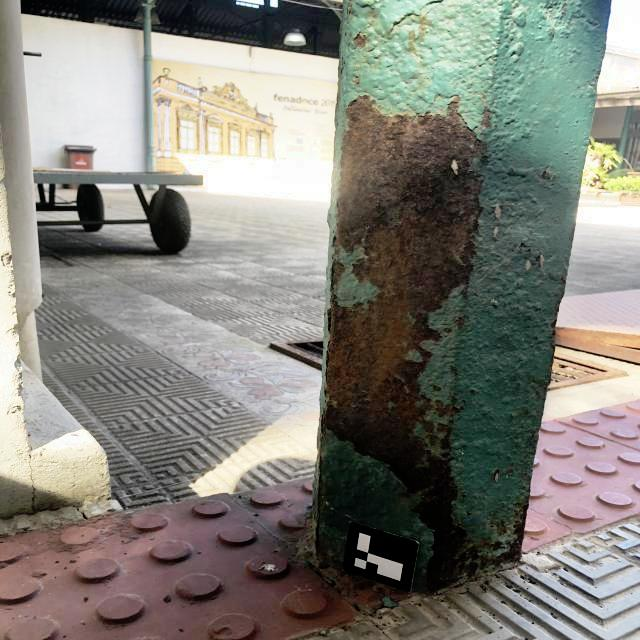Corrosion: (320, 93, 487, 591), (315, 432, 342, 566), (493, 502, 529, 569), (470, 546, 491, 570), (353, 31, 367, 49), (480, 107, 491, 127), (486, 541, 506, 551), (499, 520, 509, 535), (550, 319, 557, 336), (449, 365, 459, 376), (354, 76, 361, 88), (479, 155, 489, 163), (451, 396, 457, 403), (536, 390, 541, 398), (470, 389, 476, 395), (494, 469, 500, 475), (541, 171, 547, 177), (552, 175, 558, 181), (562, 3, 567, 8), (462, 495, 467, 499), (466, 511, 471, 515), (492, 71, 496, 75), (482, 95, 487, 98), (349, 34, 352, 39), (510, 414, 513, 417), (509, 468, 512, 470), (512, 463, 514, 466)
